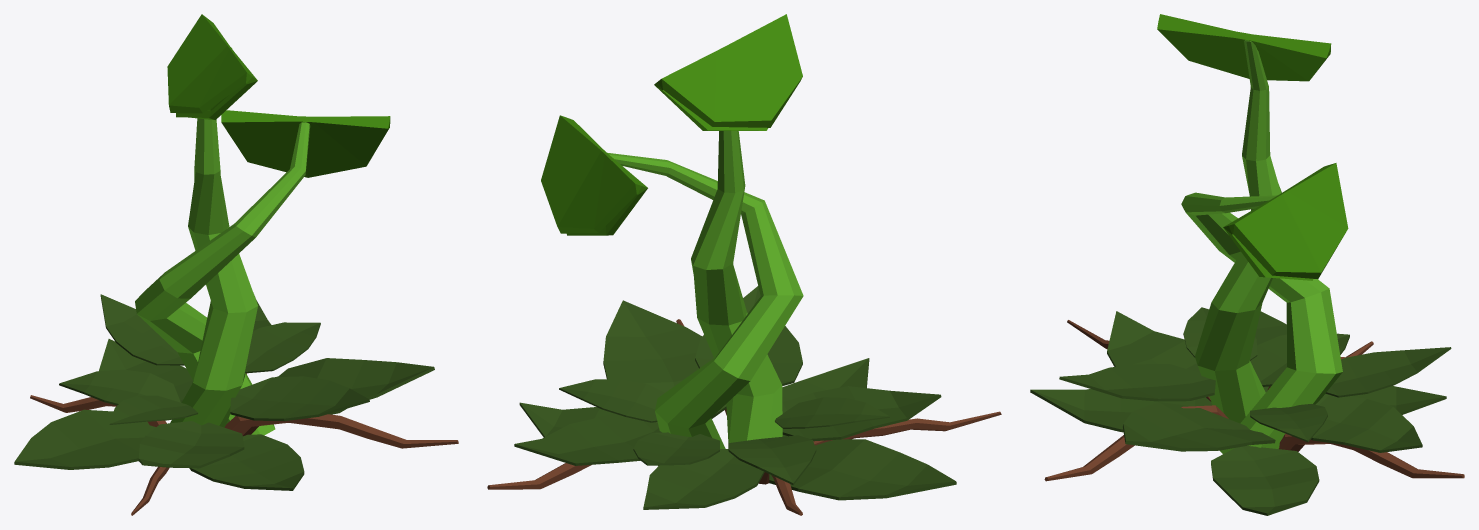
The model's file is Venus_2.fbx.
3 renders of one model, left to right at view 1: azimuth 30°, elevation 25°; view 2: azimuth 150°, elevation 25°; view 3: azimuth 270°, elevation 25°, orthographic. The views are drawn at different scales.
Visible parts, largest first — view 1: Venus_2; view 2: Venus_2; view 3: Venus_2.
Boxes of the visible parts, x1,y1,x2,y2 form: Venus_2: [14, 14, 458, 515]; Venus_2: [487, 14, 1001, 515]; Venus_2: [1030, 14, 1464, 515].
Size of the model in its own units: 151 by 146 by 136.
